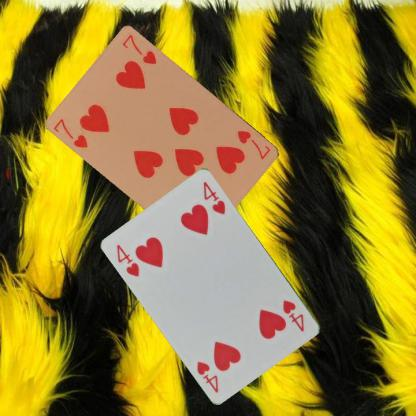4h: (114, 242, 141, 278), (280, 298, 306, 334)
7h: (52, 116, 90, 150), (235, 128, 272, 161)
